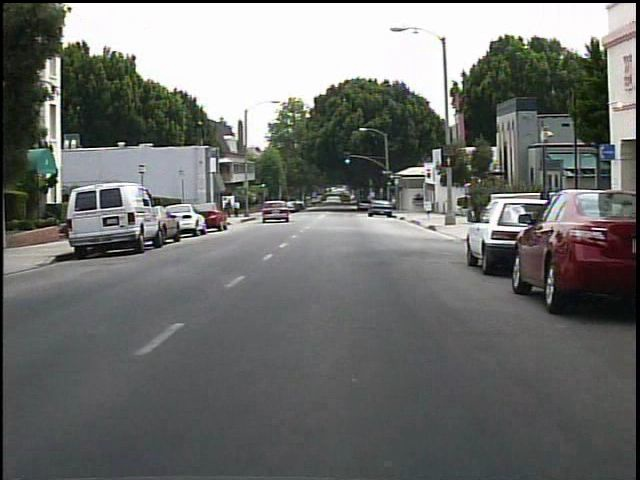person: (223, 197, 235, 220), (234, 198, 245, 220)
